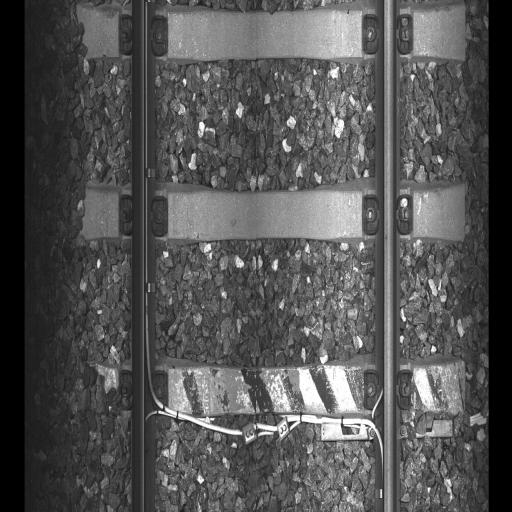clip: (117, 190, 168, 235), (116, 10, 168, 54), (362, 191, 412, 236), (117, 369, 165, 415), (363, 370, 413, 412), (361, 12, 412, 52)
sleeper: (77, 360, 466, 430), (80, 182, 468, 244), (74, 3, 468, 63)
